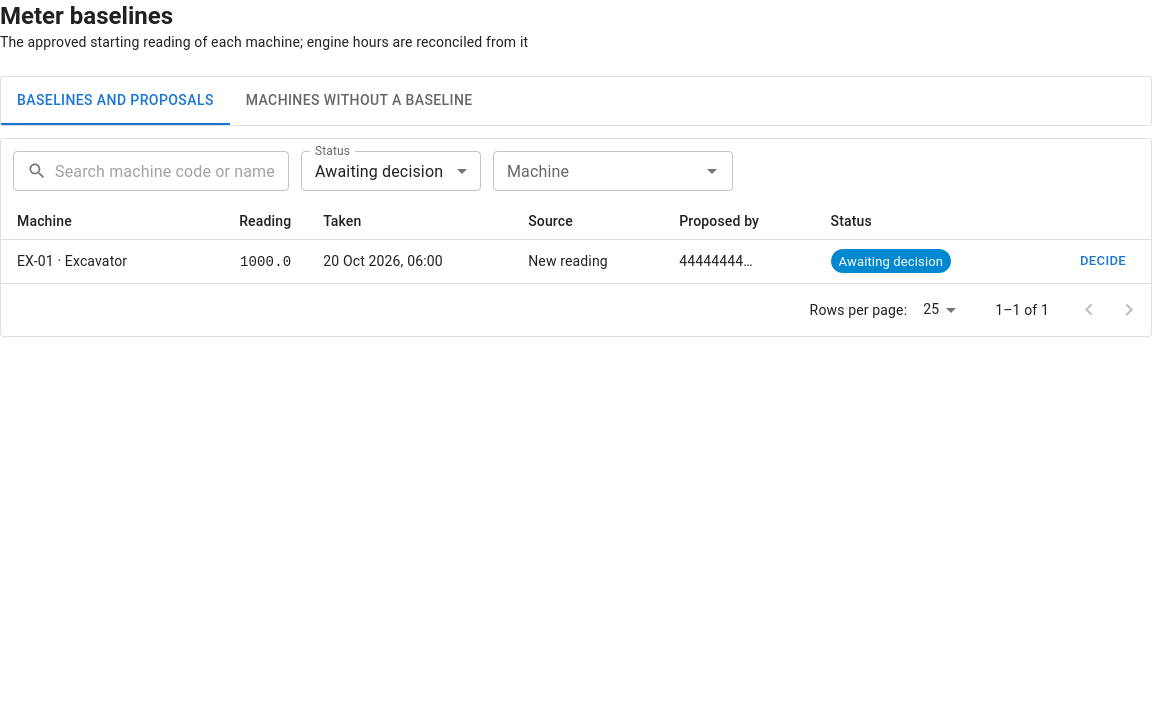
Test: MeterBaselinesPage › records a decision with the required note
Click the button "Decide" at (1103, 261), box [1071,246,1135,277]
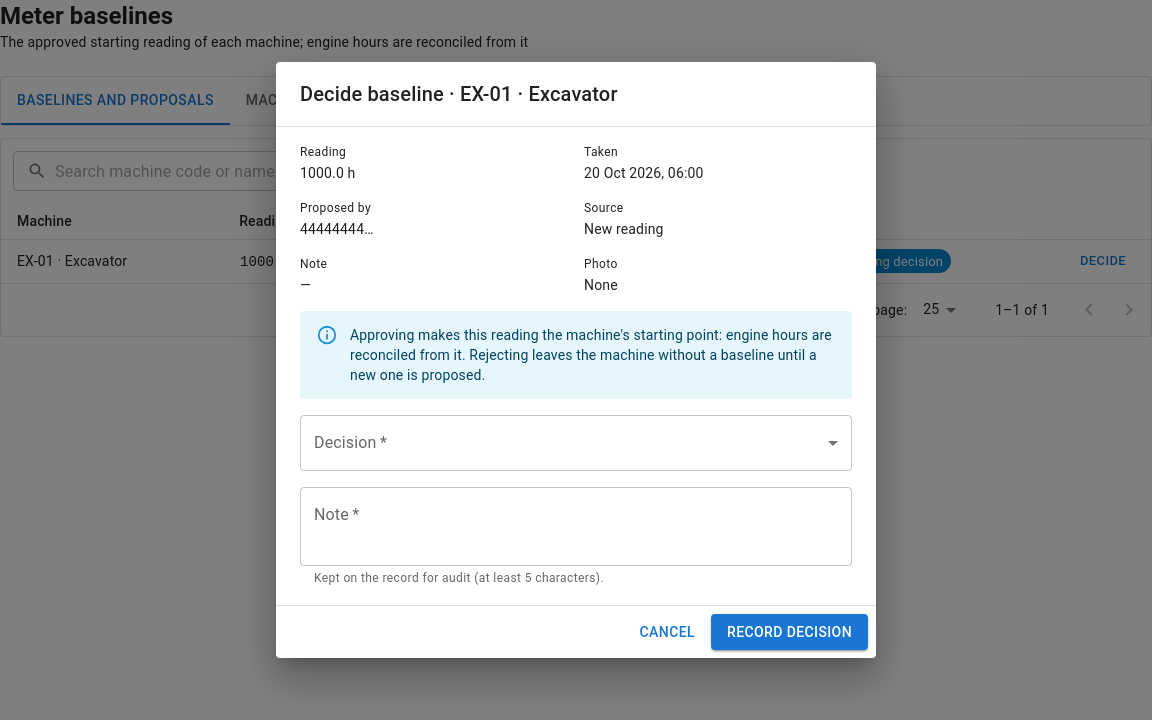
Click the dropdown named "Decision" at (576, 443), box [300,415,852,471]
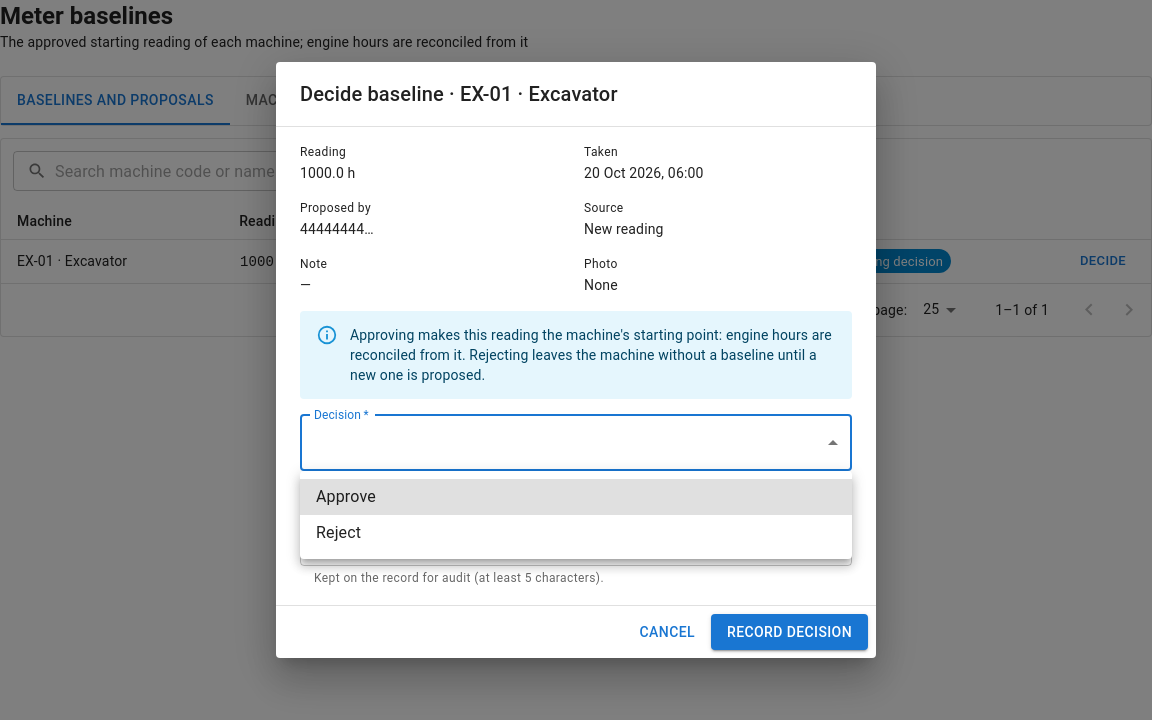
Click the option "Approve" at (346, 496), box [300,479,852,515]
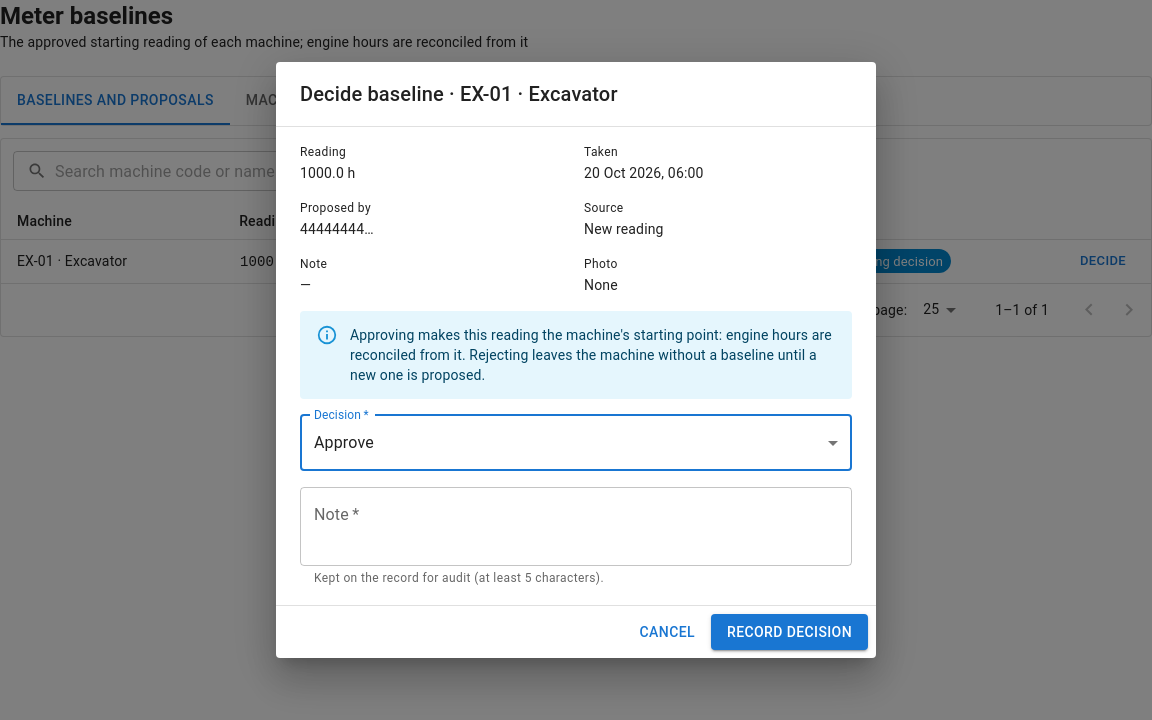
Type "Photo checked" into the text box labelled "Note *" at (576, 526), box [314,503,838,549]
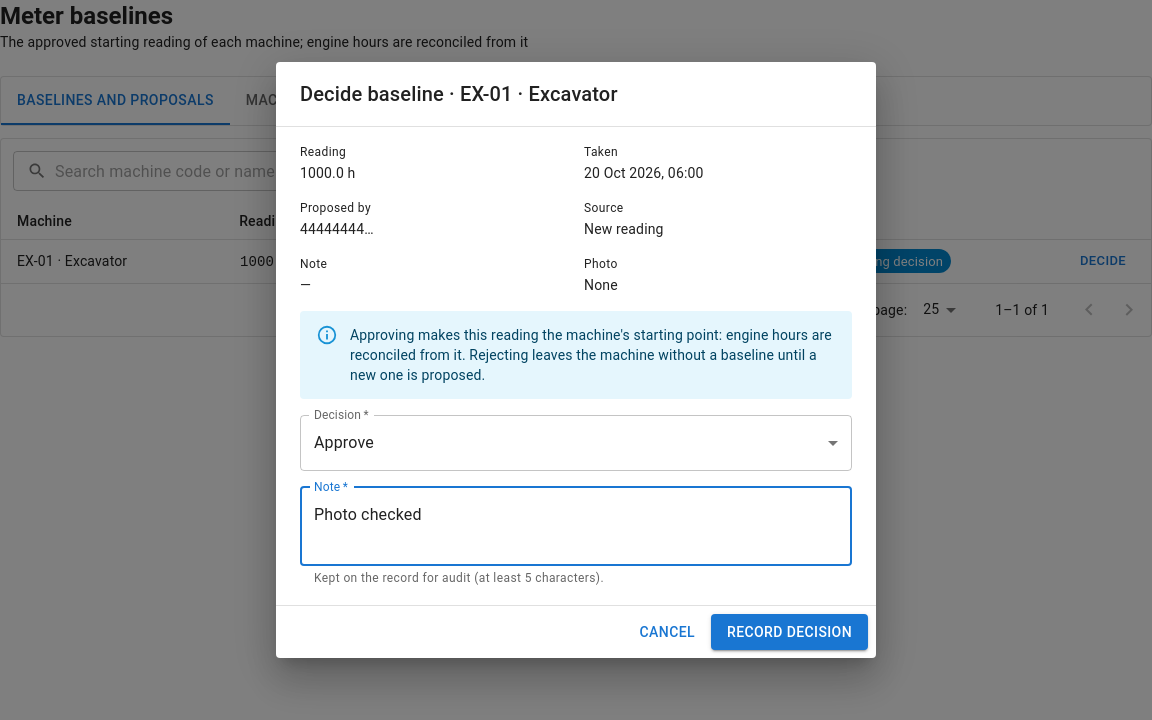
Click the button "Record decision" at (790, 632), box [711,614,868,650]
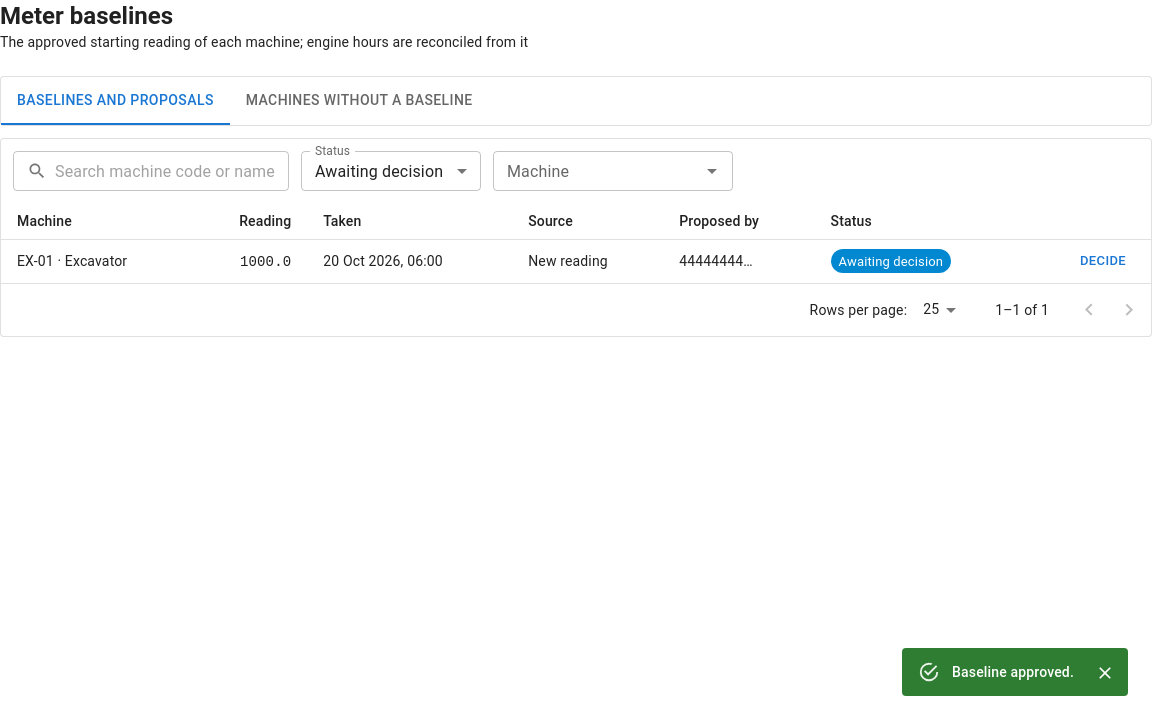
Expected: the text "Baseline approved." is shown, [952,664,1074,680]
